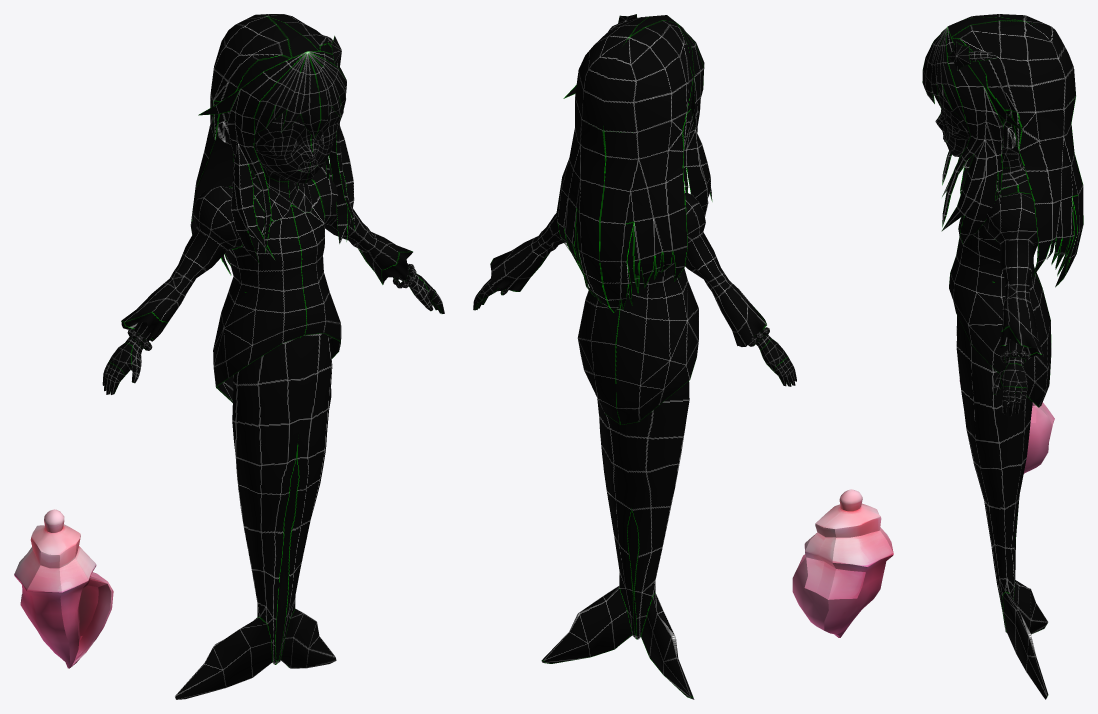
File: chara_mermaid.obj
3 renders of one model, left to right at view 1: azimuth 30°, elevation 25°; view 2: azimuth 150°, elevation 25°; view 3: azimuth 270°, elevation 25°, orthographic. The views are drawn at different scales.
Visible parts, largest first — view 1: chara_mermaid, Object001, hair_mermaid, weapon_mermaid; view 2: hair_mermaid, chara_mermaid, Object001, weapon_mermaid; view 3: hair_mermaid, chara_mermaid, Object001, weapon_mermaid.
Boxes of the visible parts, x1=… form: chara_mermaid: x1=102, y1=98, x2=444, y2=402; Object001: x1=175, y1=292, x2=336, y2=699; hair_mermaid: x1=190, y1=14, x2=355, y2=275; weapon_mermaid: x1=14, y1=509, x2=113, y2=668; hair_mermaid: x1=556, y1=14, x2=712, y2=312; chara_mermaid: x1=473, y1=125, x2=796, y2=424; Object001: x1=541, y1=276, x2=694, y2=699; weapon_mermaid: x1=792, y1=489, x2=893, y2=637; hair_mermaid: x1=922, y1=14, x2=1083, y2=287; chara_mermaid: x1=935, y1=84, x2=1051, y2=416; Object001: x1=956, y1=281, x2=1048, y2=699; weapon_mermaid: x1=959, y1=379, x2=1054, y2=473.
Bounding box in the file's own units: 38.33 × 57.74 × 13.07.
